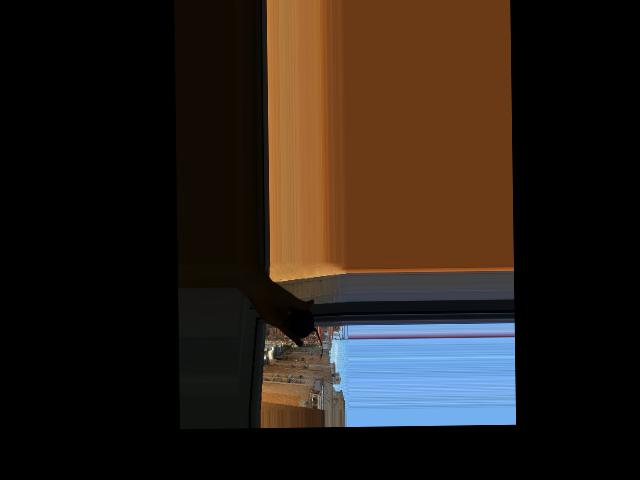beet: (288, 309, 322, 360)
